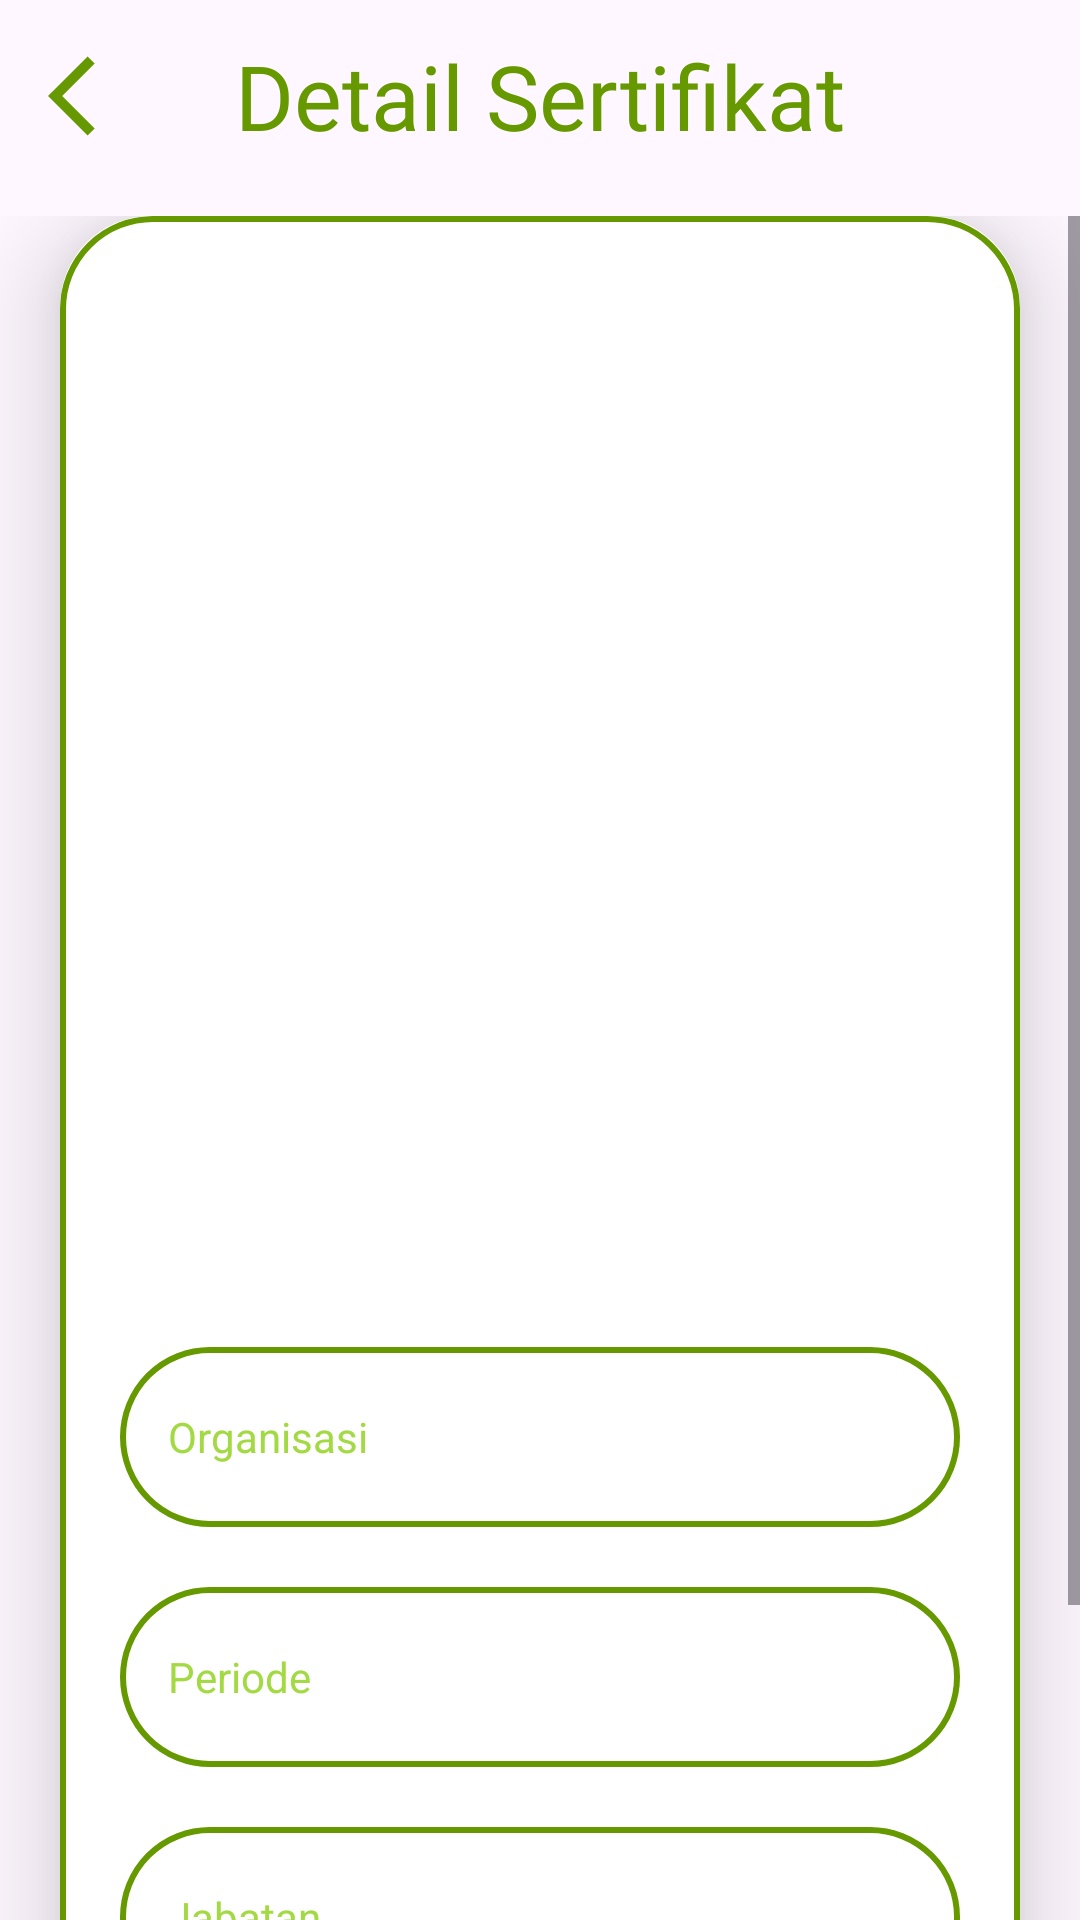

Icon bounding boxes for this 1080px×1920px phone screenshot, format (x1,y1,x2,y2):
backicon: (48,56,95,136)
